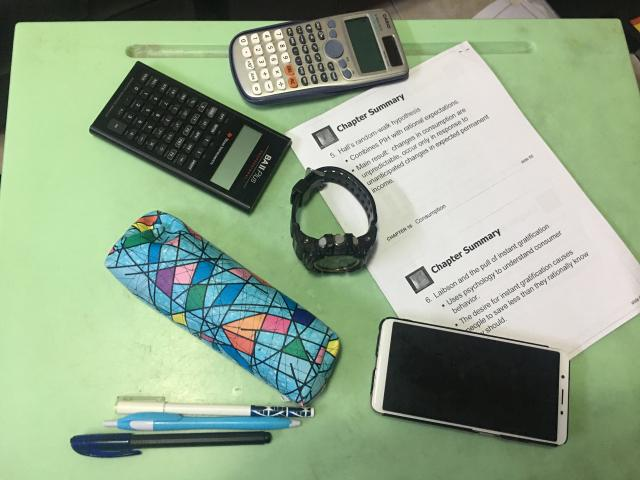Mobile phone: (370, 319, 570, 449)
Pen: (68, 399, 313, 459)
Watch: (289, 167, 380, 278)
paper: (284, 44, 640, 426)
